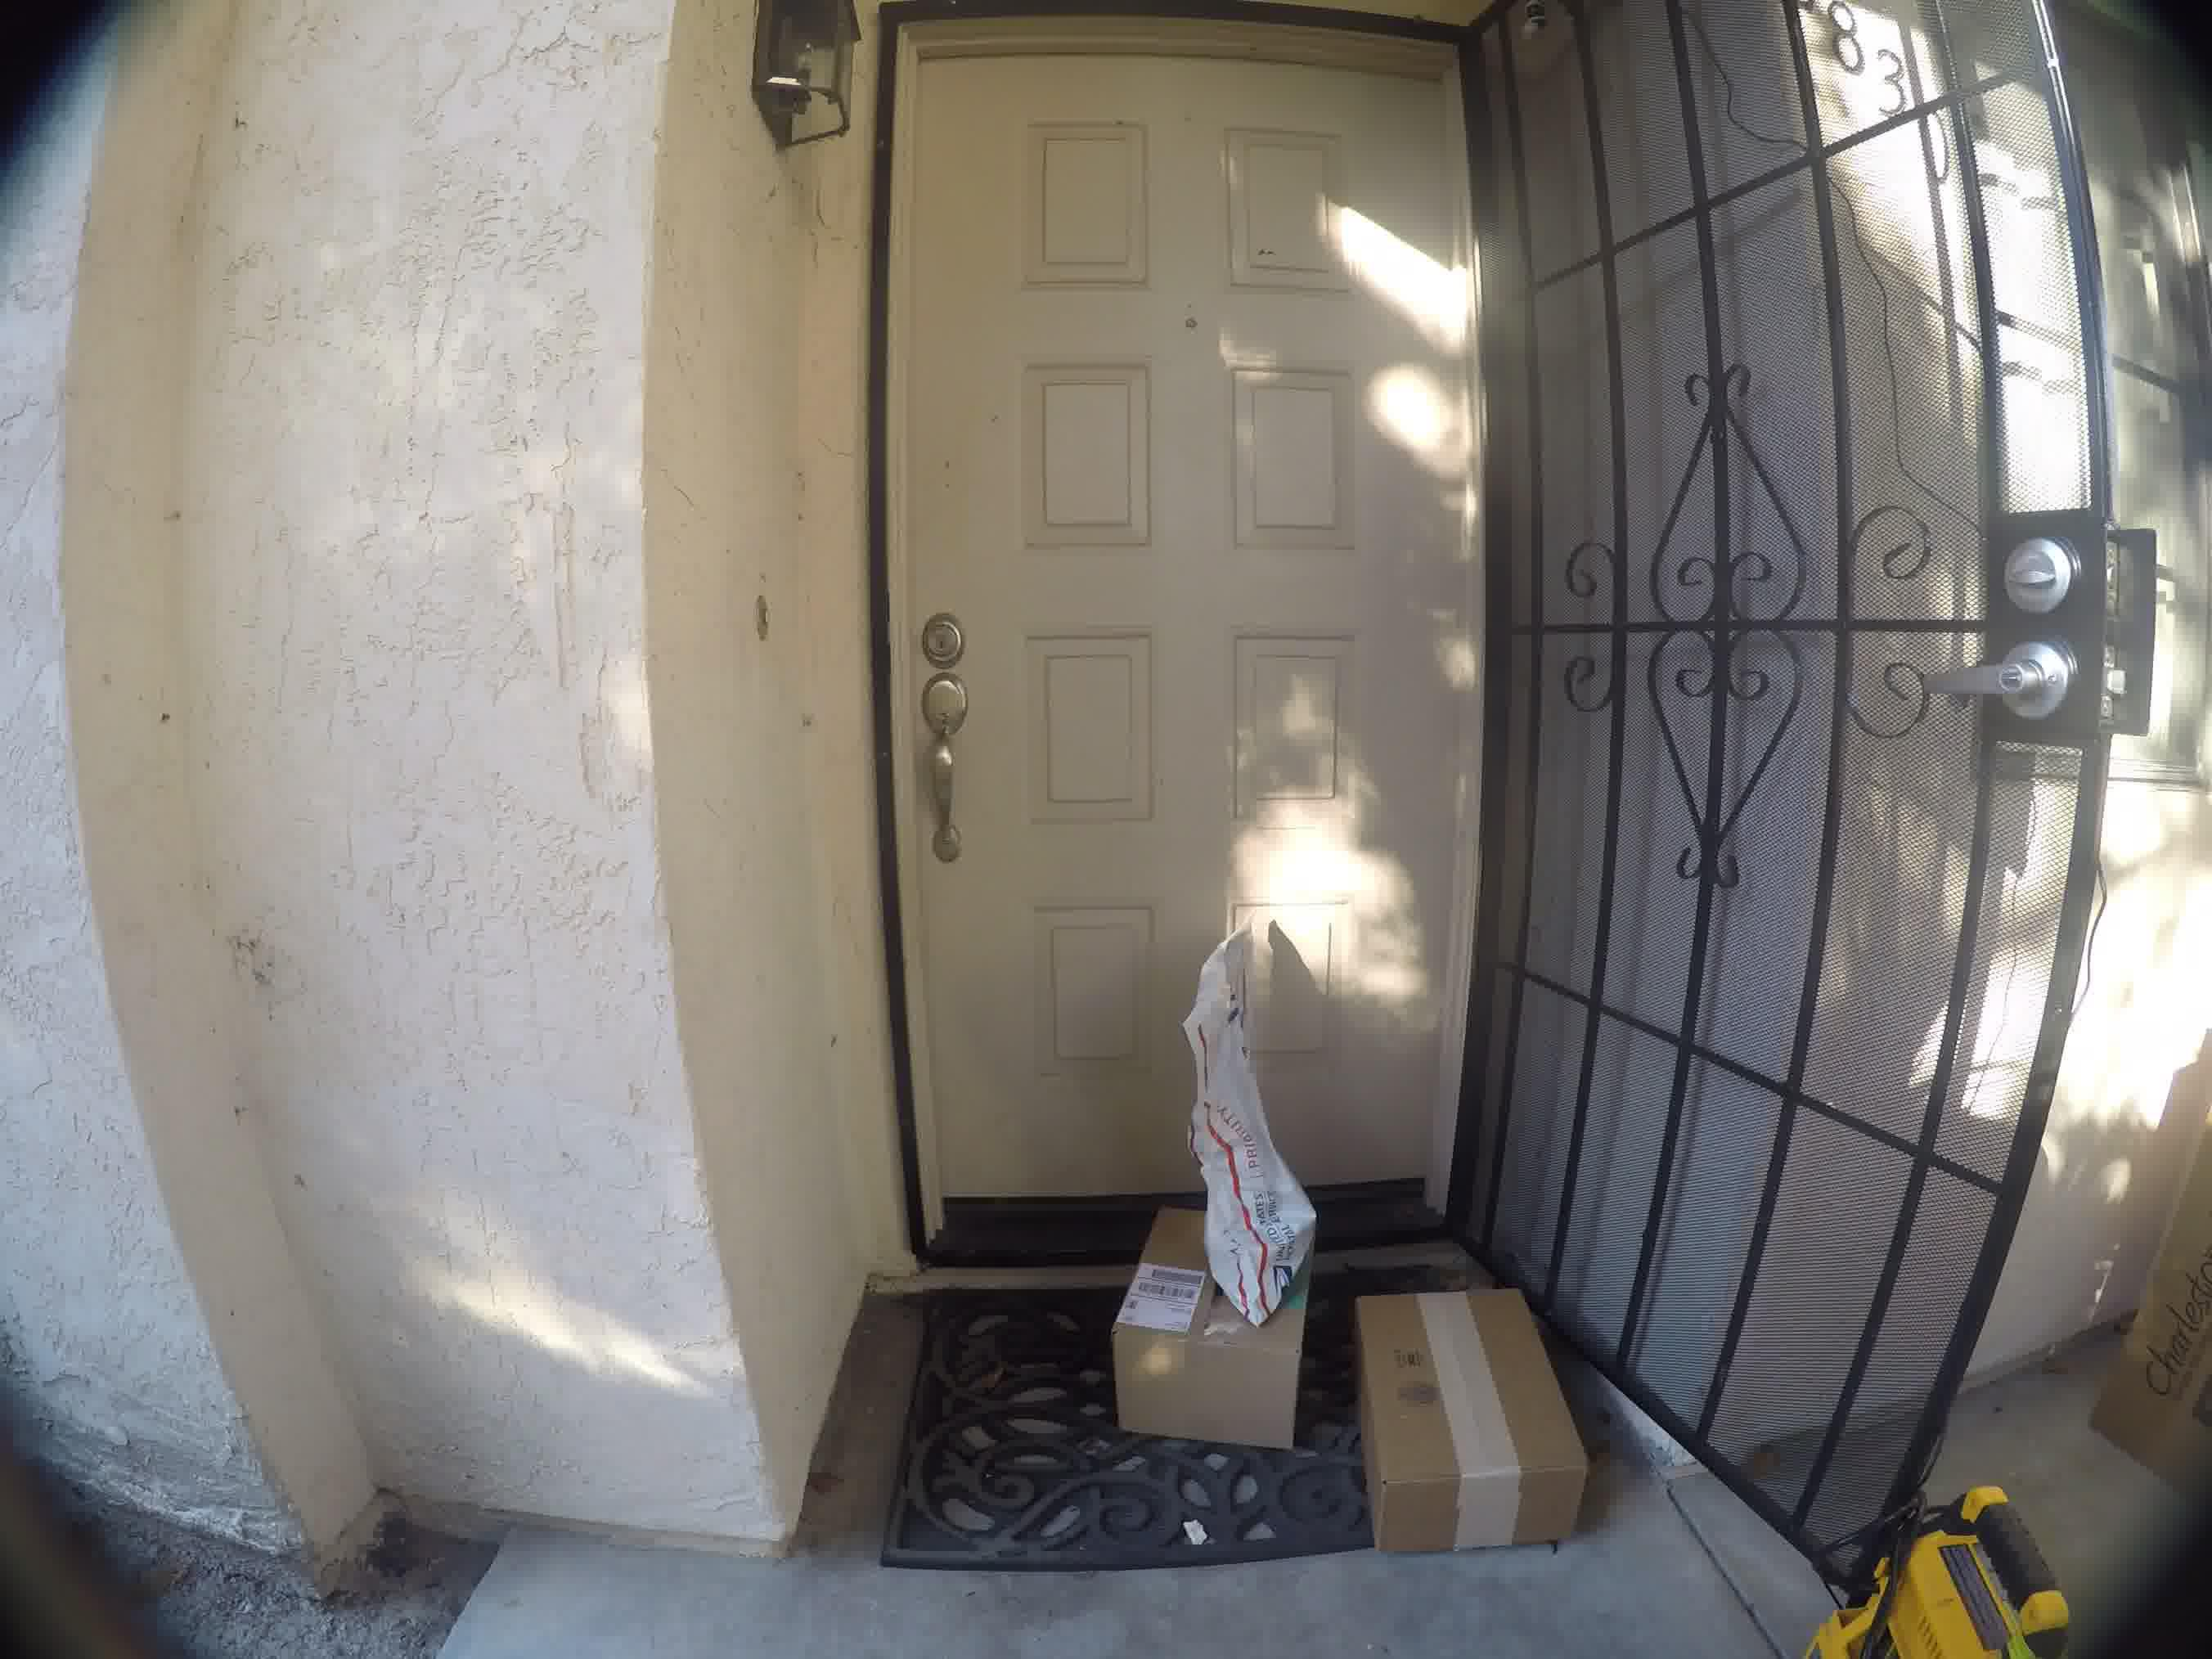box: (1343, 1279, 1592, 1535), (1106, 1283, 1310, 1452)
plastic_bag: (1160, 899, 1339, 1298)
